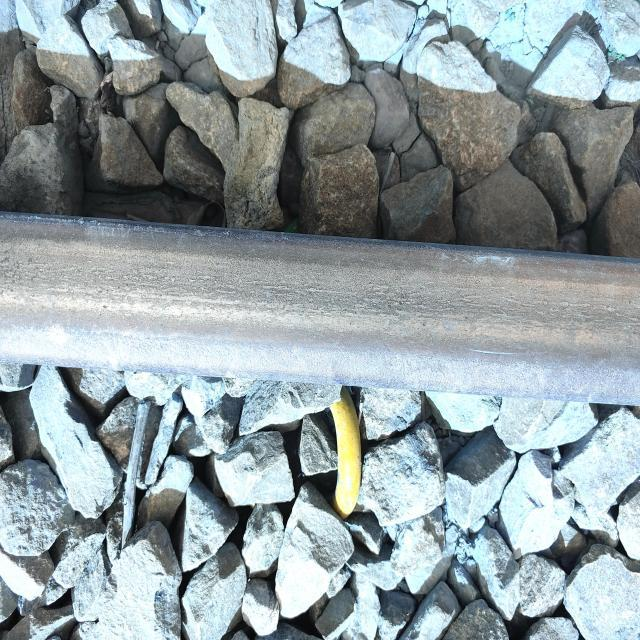Good Fasteners: (330, 387, 361, 518)
